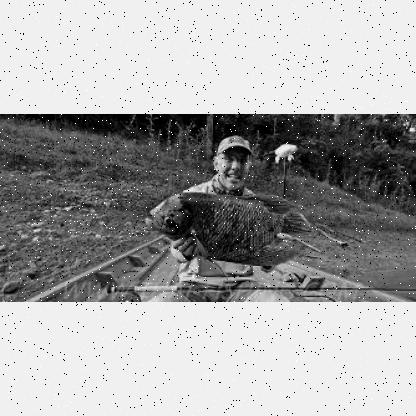gurame: (147, 193, 301, 266)
